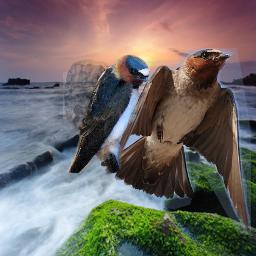Swallow: (101, 48, 251, 235), (63, 53, 150, 173)
